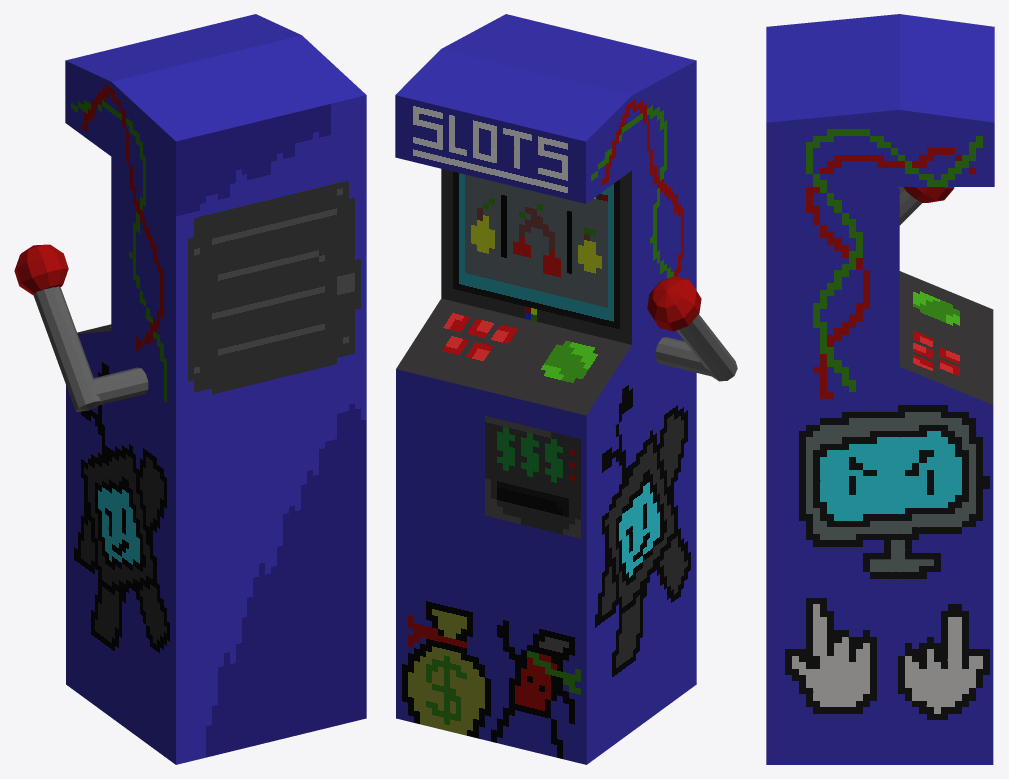
File: SlotmachineTexture.gltf
3 renders of one model, left to right at view 1: azimuth 30°, elevation 25°; view 2: azimuth 150°, elevation 25°; view 3: azimuth 270°, elevation 25°, orthographic. The views are drawn at different scales.
Visible parts, largest first — view 1: SlotMachineBody, HandleBar, Knob, HandleConnect; view 2: SlotMachineBody, Knob, HandleBar, HandleConnect; view 3: SlotMachineBody, Knob, HandleBar.
Part boxes in pixels (bbox=[...]): SlotMachineBody: bbox=[65, 14, 366, 764]; HandleBar: bbox=[33, 286, 102, 411]; Knob: bbox=[14, 244, 68, 294]; HandleConnect: bbox=[90, 367, 148, 405]; SlotMachineBody: bbox=[395, 14, 696, 764]; Knob: bbox=[647, 276, 701, 331]; HandleBar: bbox=[676, 314, 737, 381]; HandleConnect: bbox=[655, 337, 715, 377]; SlotMachineBody: bbox=[766, 14, 994, 764]; Knob: bbox=[903, 187, 954, 202]; HandleBar: bbox=[899, 187, 922, 225].
Bounding box in the file's own units: 1.41 × 3.19 × 1.01.
Materials: 1 (1 with a texture image).
